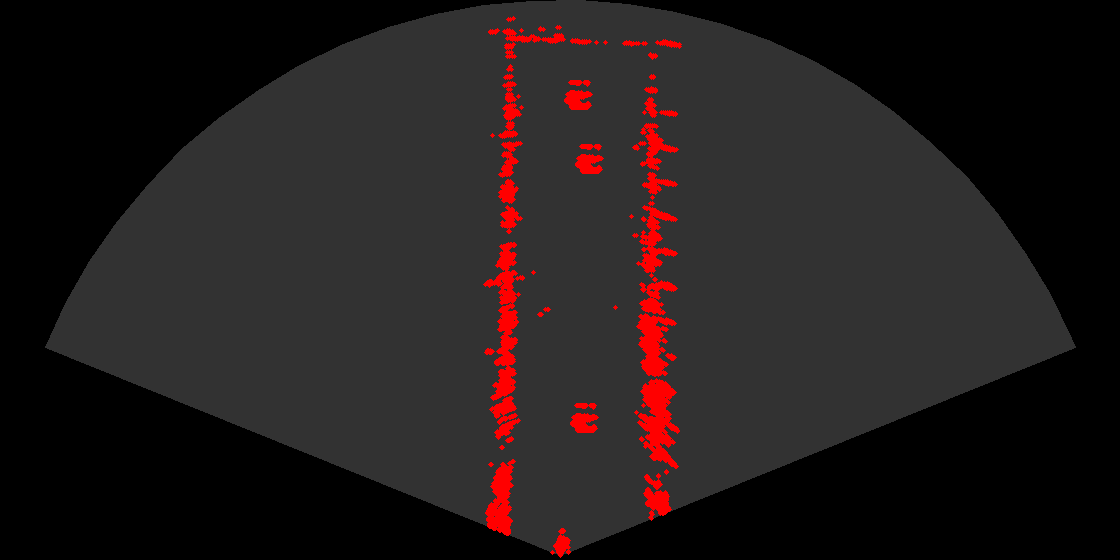ball: (555, 136, 615, 177), (550, 395, 610, 436), (544, 72, 604, 113)
